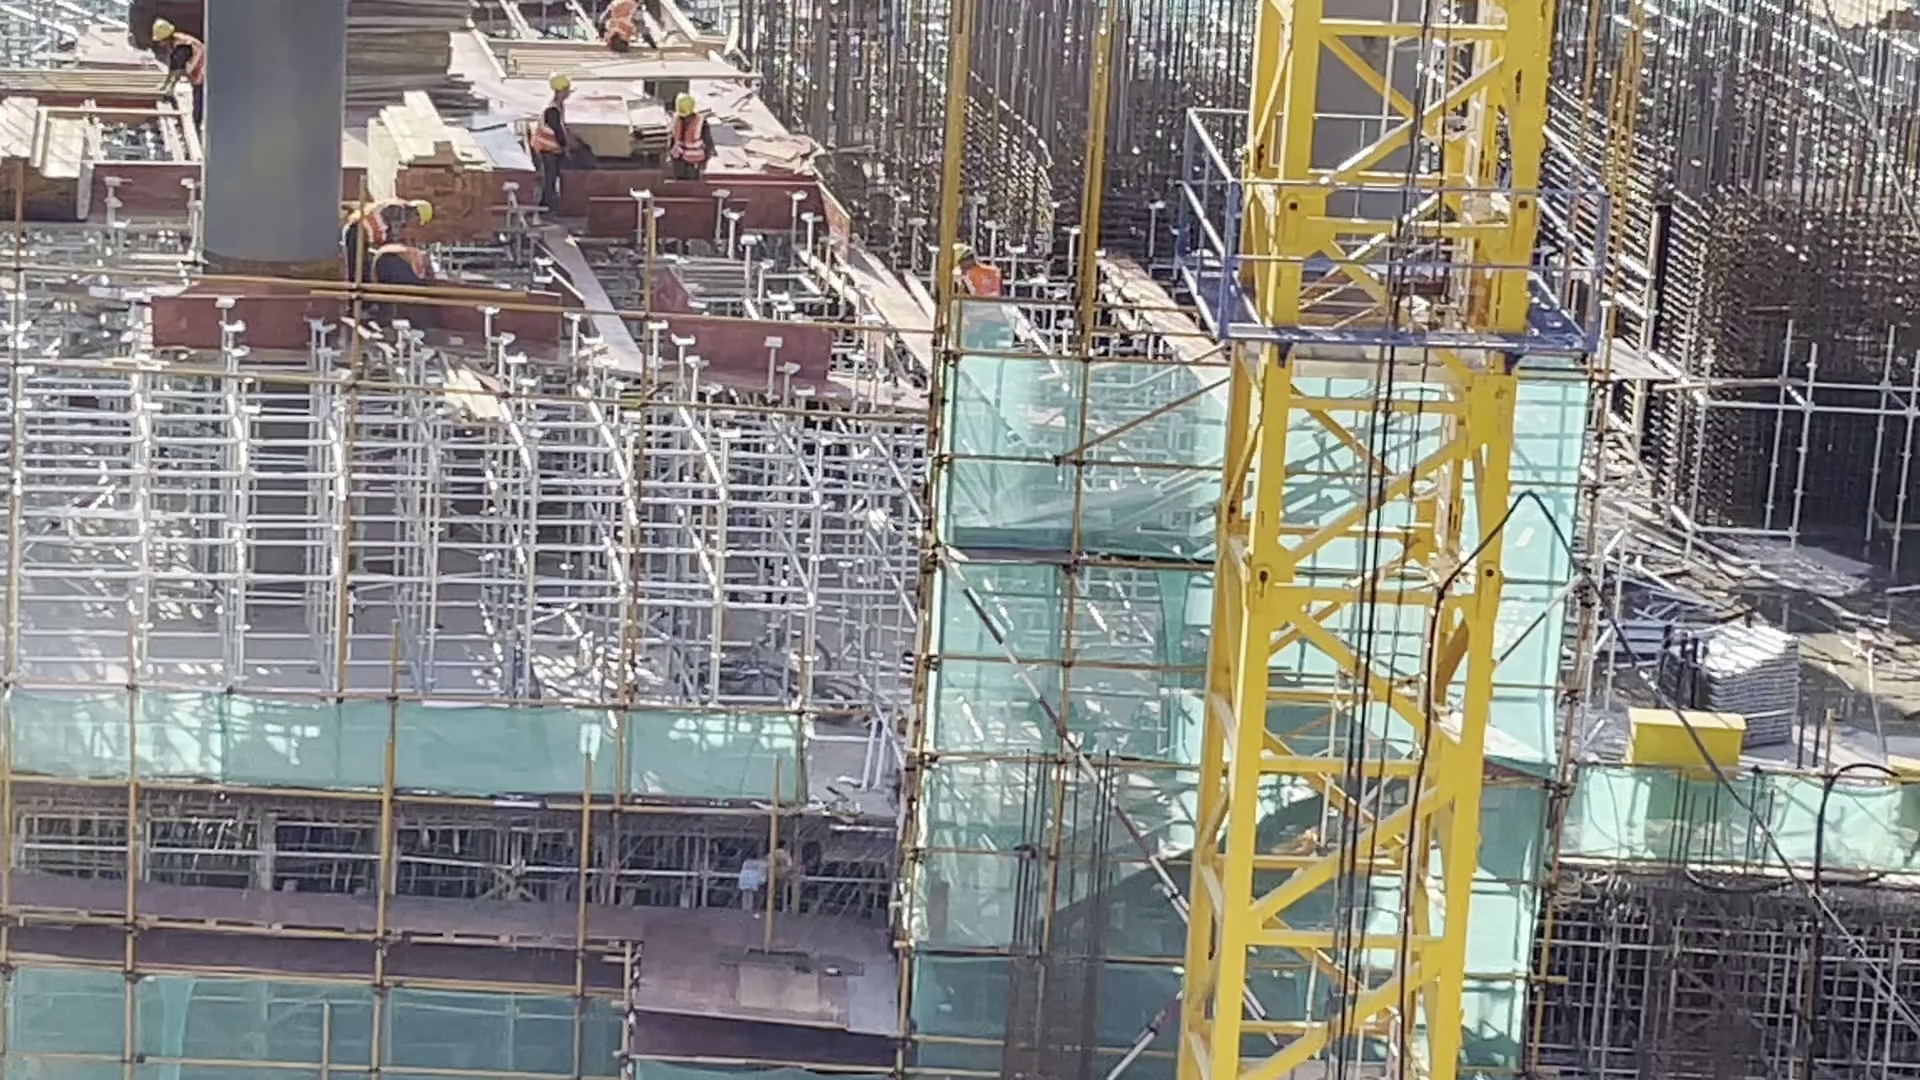helmet: (405, 198, 433, 227), (947, 243, 974, 266), (151, 20, 177, 42), (546, 69, 570, 91), (672, 93, 694, 115)
person: (347, 193, 432, 289), (147, 16, 204, 136), (531, 69, 576, 215), (662, 91, 719, 193), (947, 239, 1004, 298), (377, 246, 436, 289), (601, 1, 645, 57)
vest: (531, 97, 568, 157), (351, 205, 391, 251), (673, 113, 706, 168), (964, 265, 1001, 300), (178, 36, 203, 83)
